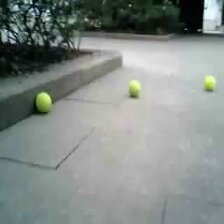tennis: (37, 91, 52, 113), (127, 81, 141, 97), (204, 76, 216, 89)
